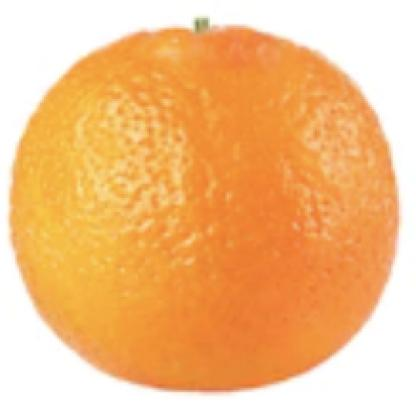fresh: (11, 25, 398, 397)
